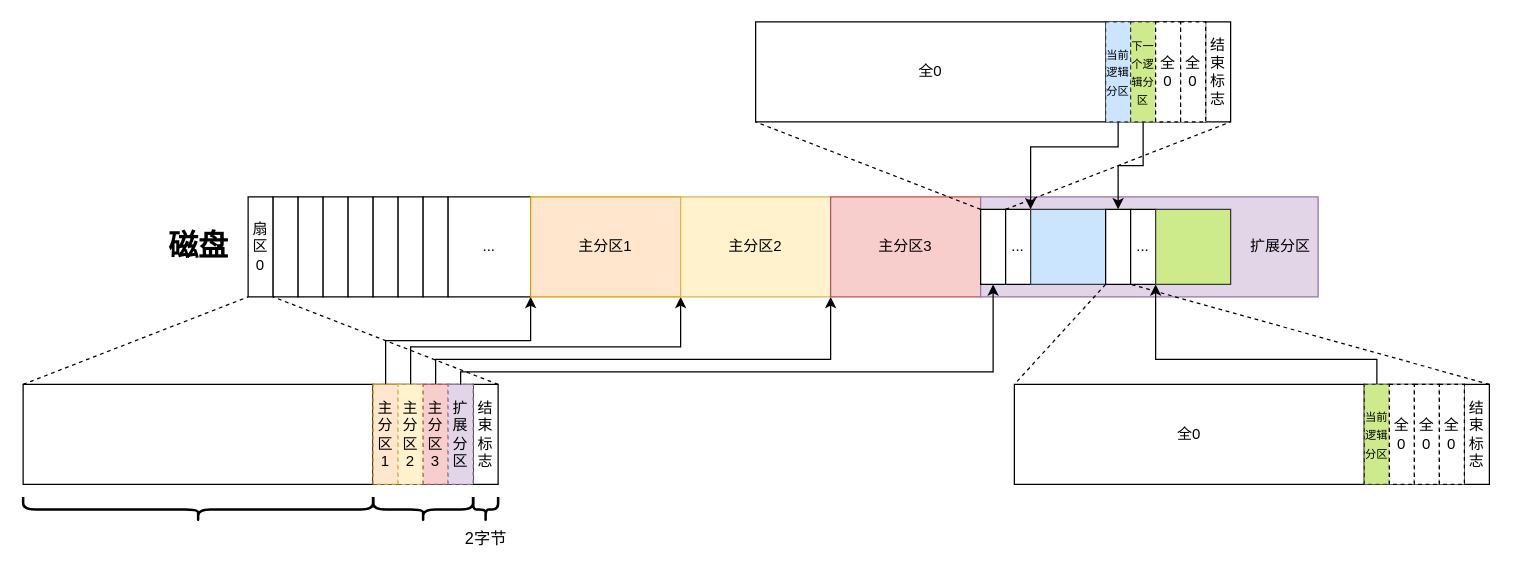
This 1513x574 diagram has some shape labels left out. The shapes that lost their labels are listed below. From the top down, each one's centre as x and y in pixels, then its label:
[1067,246]: 逻辑分区1
[1192,246]: 逻辑分区2
[197,433]: MBR 引导程序
[197,508]: 446字节
[422,508]: 64字节
